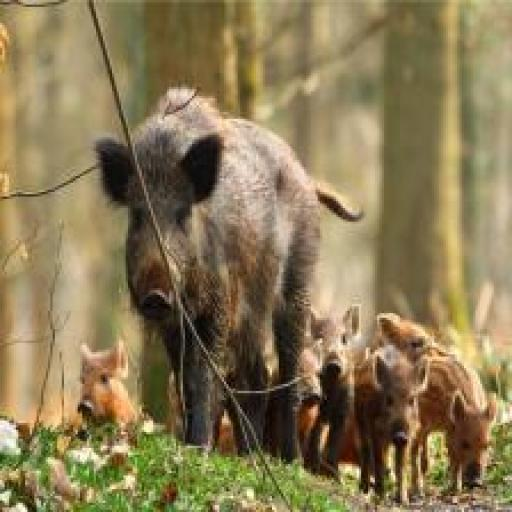Pig: (96, 87, 369, 457), (352, 347, 423, 503), (421, 354, 496, 490), (306, 306, 358, 481), (268, 340, 324, 462), (78, 343, 139, 431)
